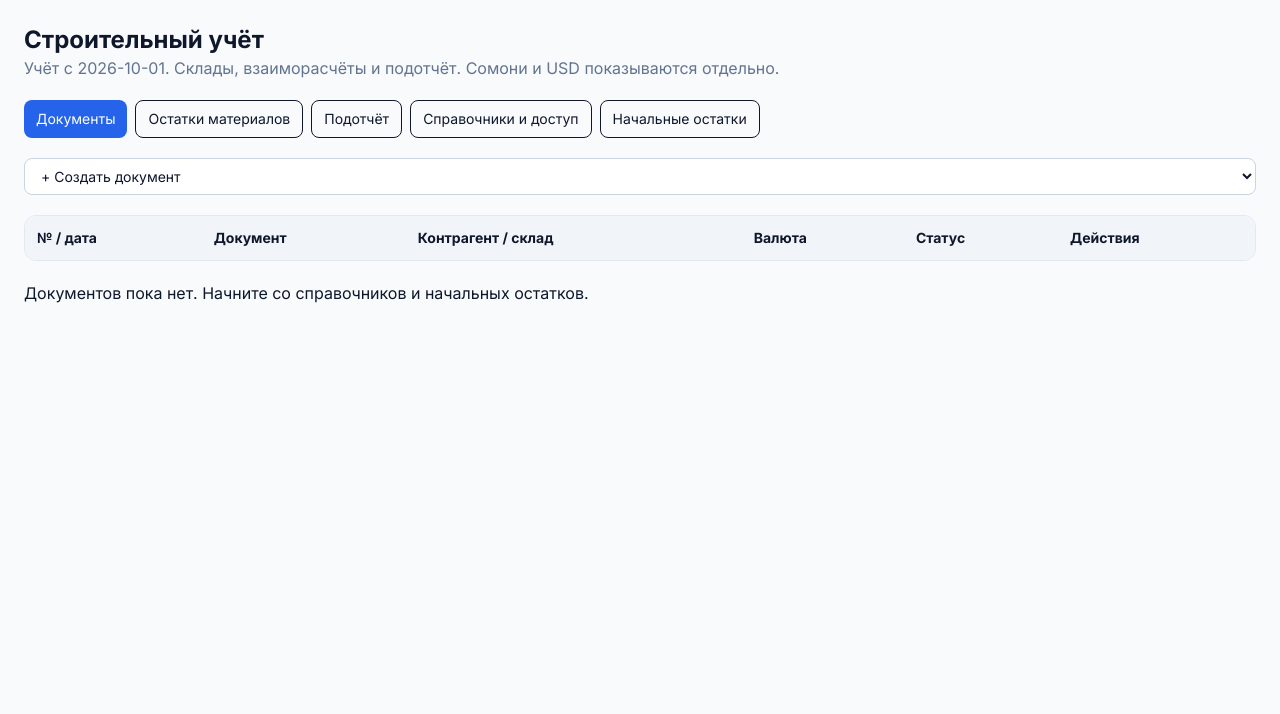
Scenario: Construction page workflows › edits a material with prefilled values and refreshes the same catalogue entry
The width and height of the screenshot is (1280, 714).
Expected: the heading "Строительный учёт" is shown, [24,25,264,54]
Click the button "Справочники и доступ" at (501, 119), box [410,100,592,138]
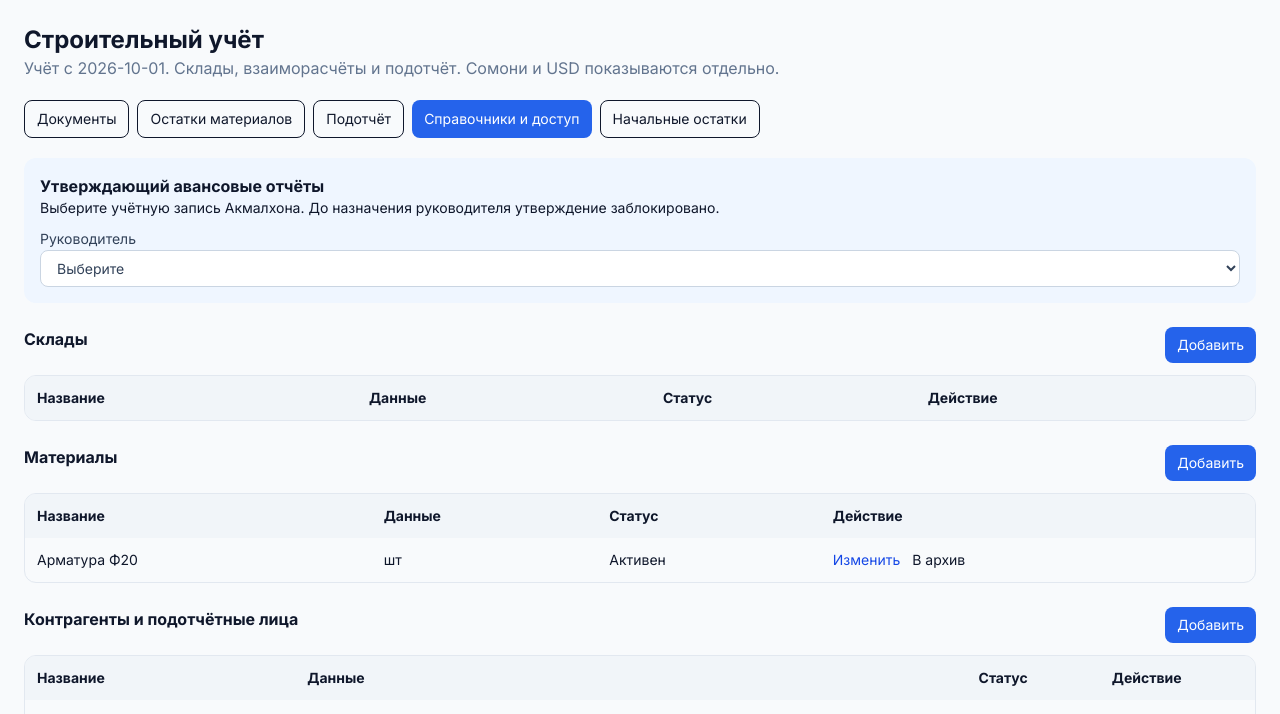
Click the button "Изменить" at (867, 560), box [833,550,900,570]
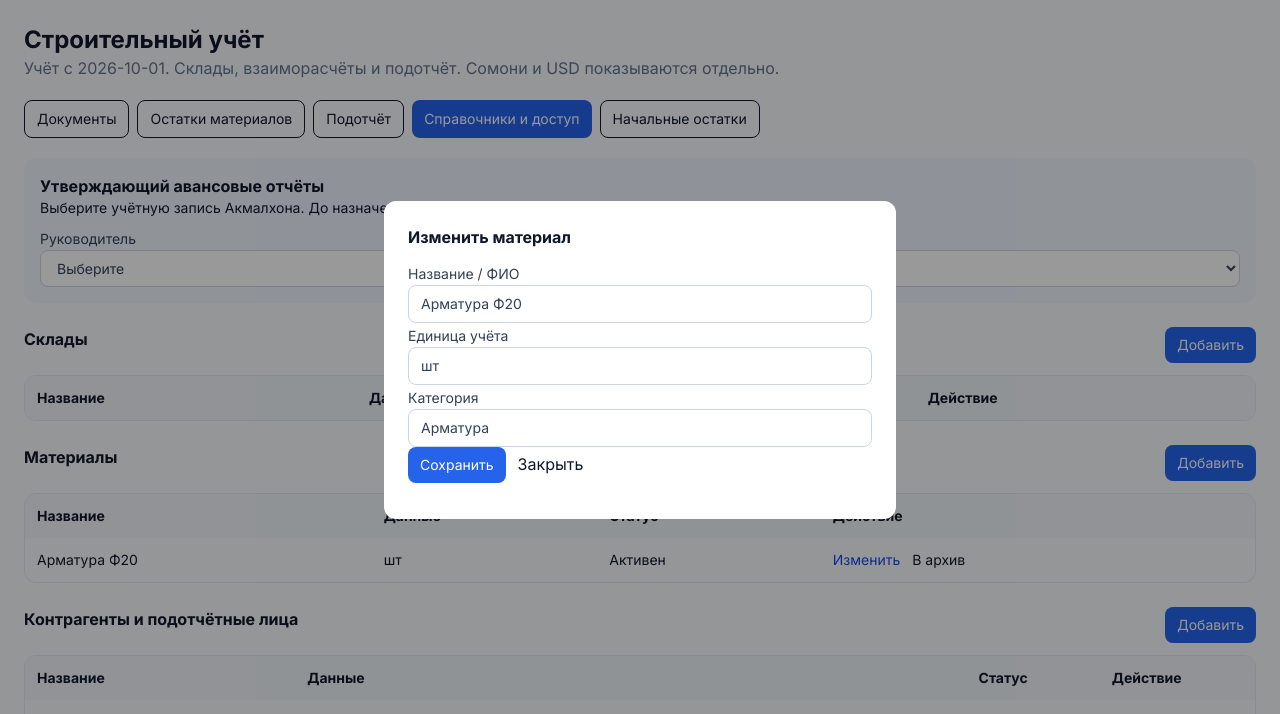
Now the field labelled "Название / ФИО" holds "Арматура Ф20"
Now the field labelled "Единица учёта" holds "шт", box [408,347,872,385]
Now the field labelled "Категория" holds "Арматура", box [408,409,872,447]
Replace the text in the field labelled "Название / ФИО" with "Арматура Ф20 А500" at (640, 304), box [408,285,872,323]
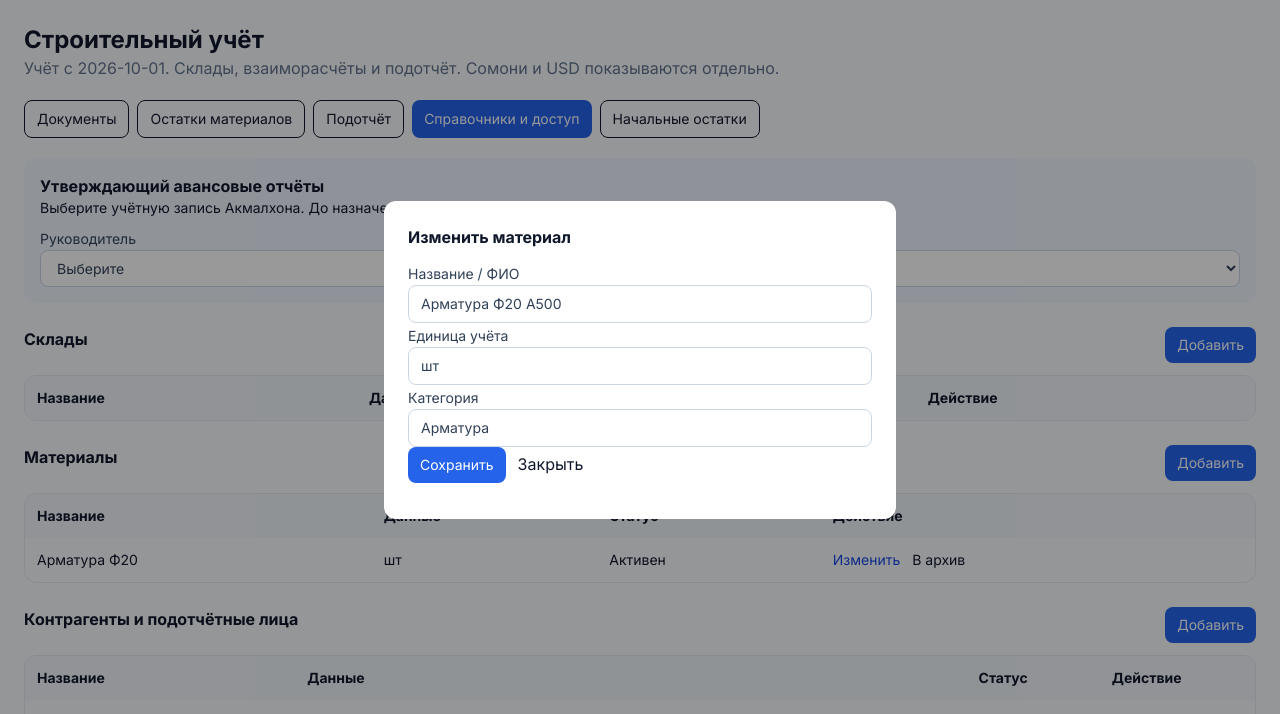
Replace the text in the field labelled "Единица учёта" with "кг" at (640, 366), box [408,347,872,385]
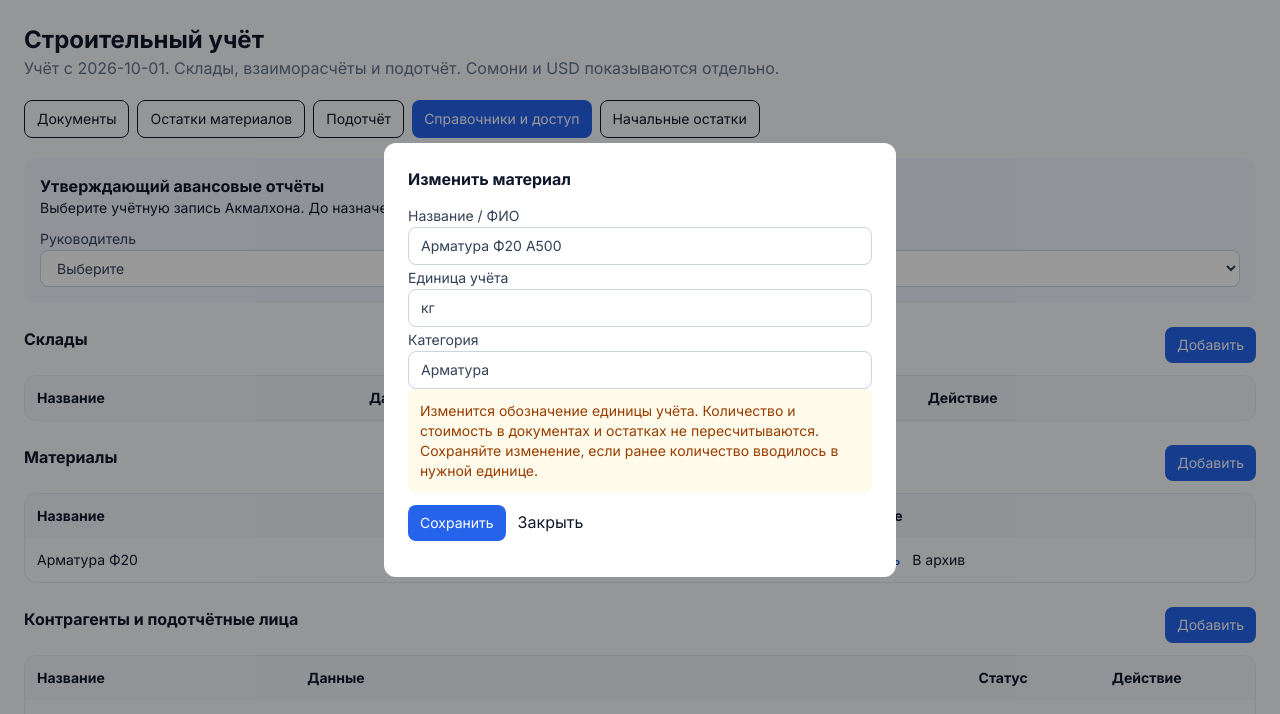
Replace the text in the field labelled "Категория" with "Металл" at (640, 370), box [408,351,872,389]
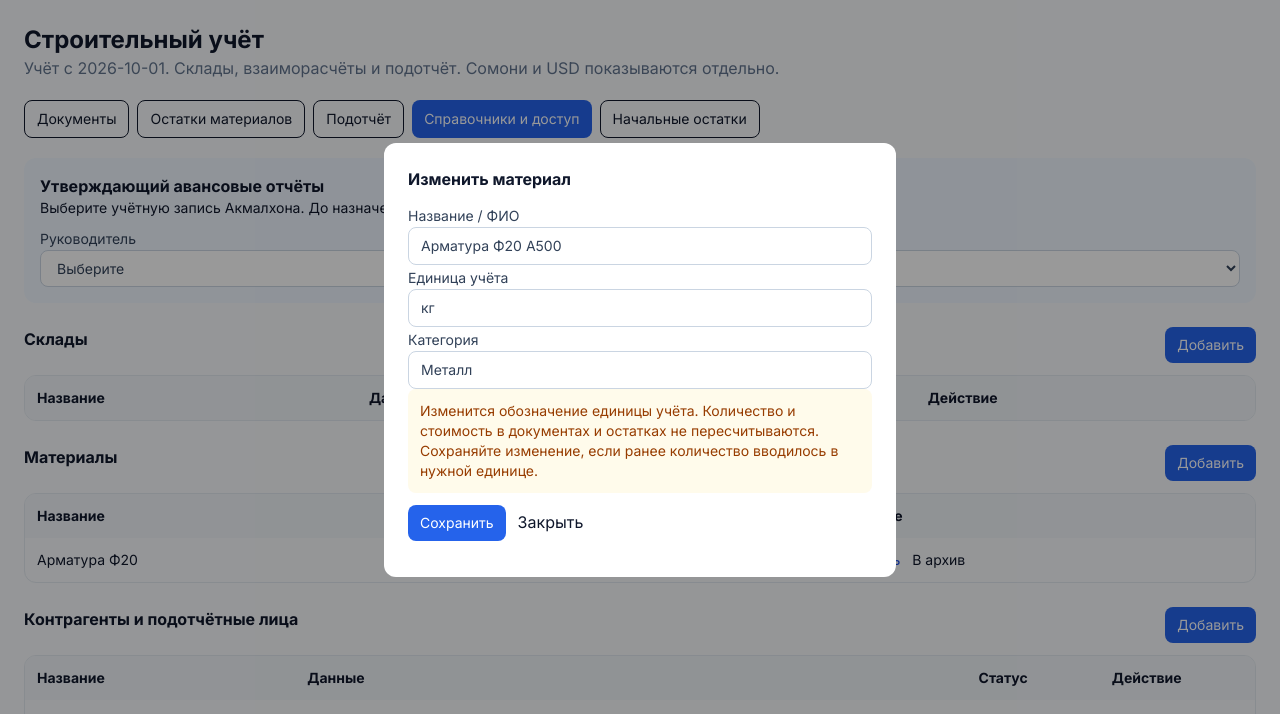
Now the text "не пересчитываются" is shown, box [420,402,838,479]
Click the button "Сохранить" at (457, 523), box [408,505,506,541]
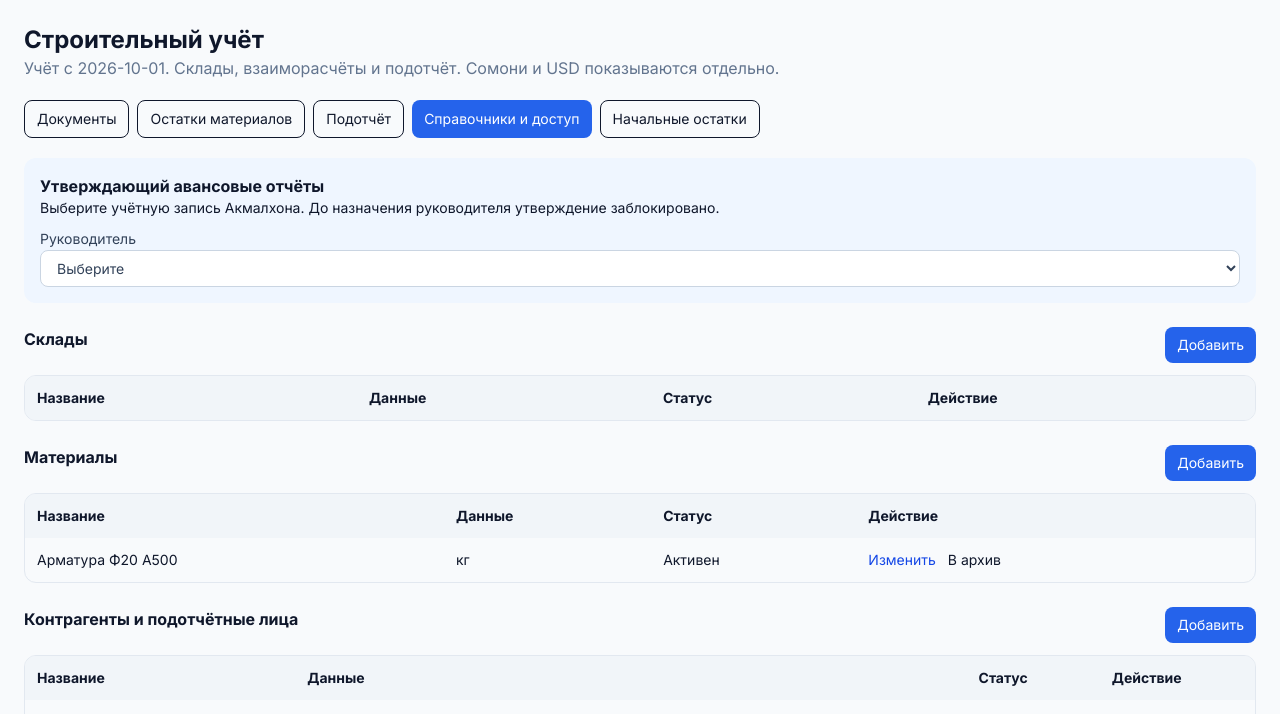
Now the dialog is gone
Now the text "кг" is shown, box [444,538,651,582]
